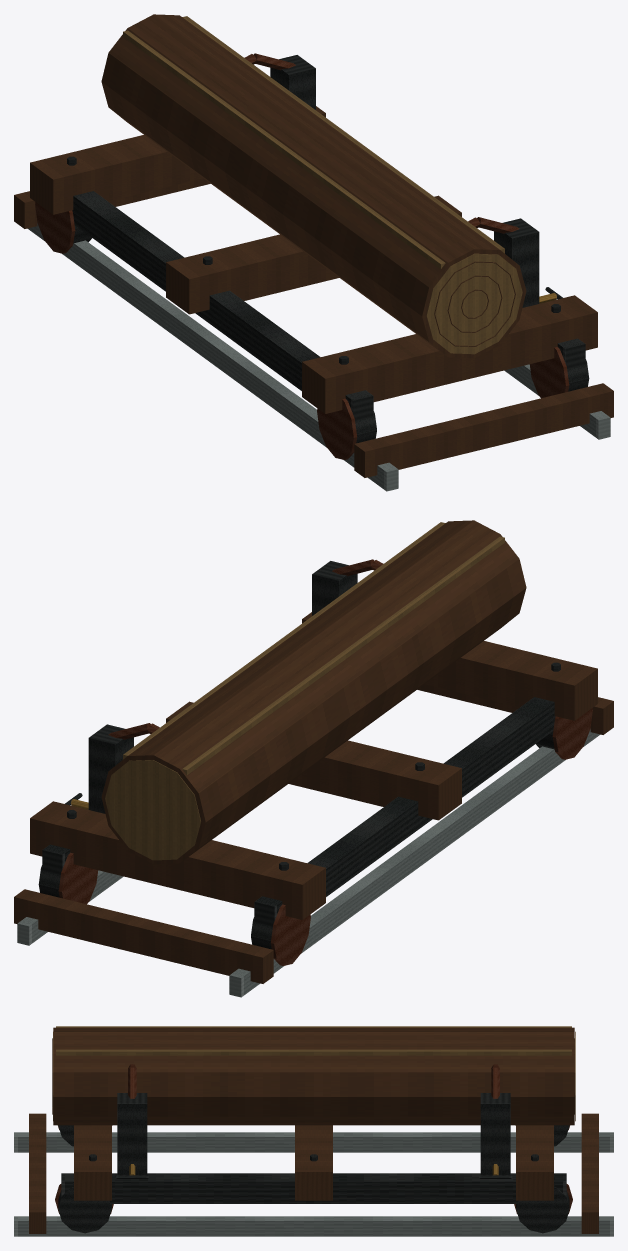
Rendered from level_work_log_carriage.glb.
The picture shows the model from 3 angles, top to bottom: view 1: azimuth 30°, elevation 25°; view 2: azimuth 150°, elevation 25°; view 3: azimuth 270°, elevation 25°; orthographic projection. The views are drawn at different scales.
Visible parts, largest first — view 1: level_work_log_carriage; view 2: level_work_log_carriage; view 3: level_work_log_carriage.
Boxes of the visible parts, left/top/right/bottom form: level_work_log_carriage: left=14, top=14, right=613, bottom=491; level_work_log_carriage: left=14, top=520, right=613, bottom=997; level_work_log_carriage: left=14, top=1026, right=613, bottom=1236.
Size of the model in its own units: 1.62 by 1.12 by 3.8.
Materials: 6 (6 with a texture image).
